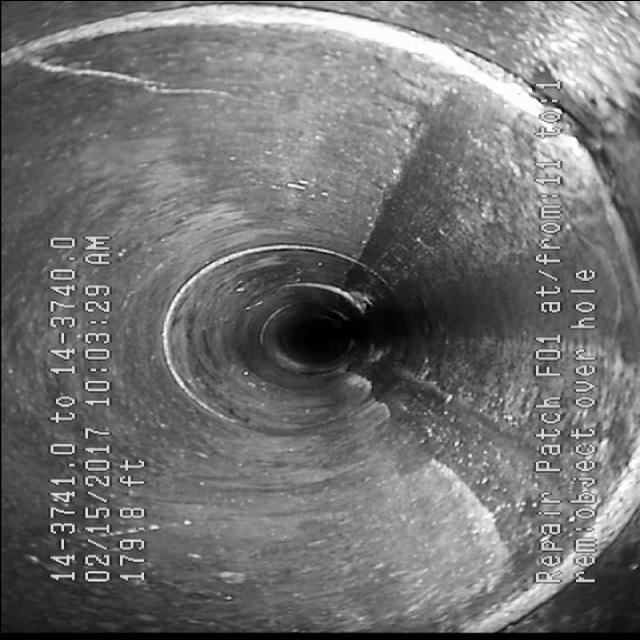Crack: (2, 45, 242, 101)
